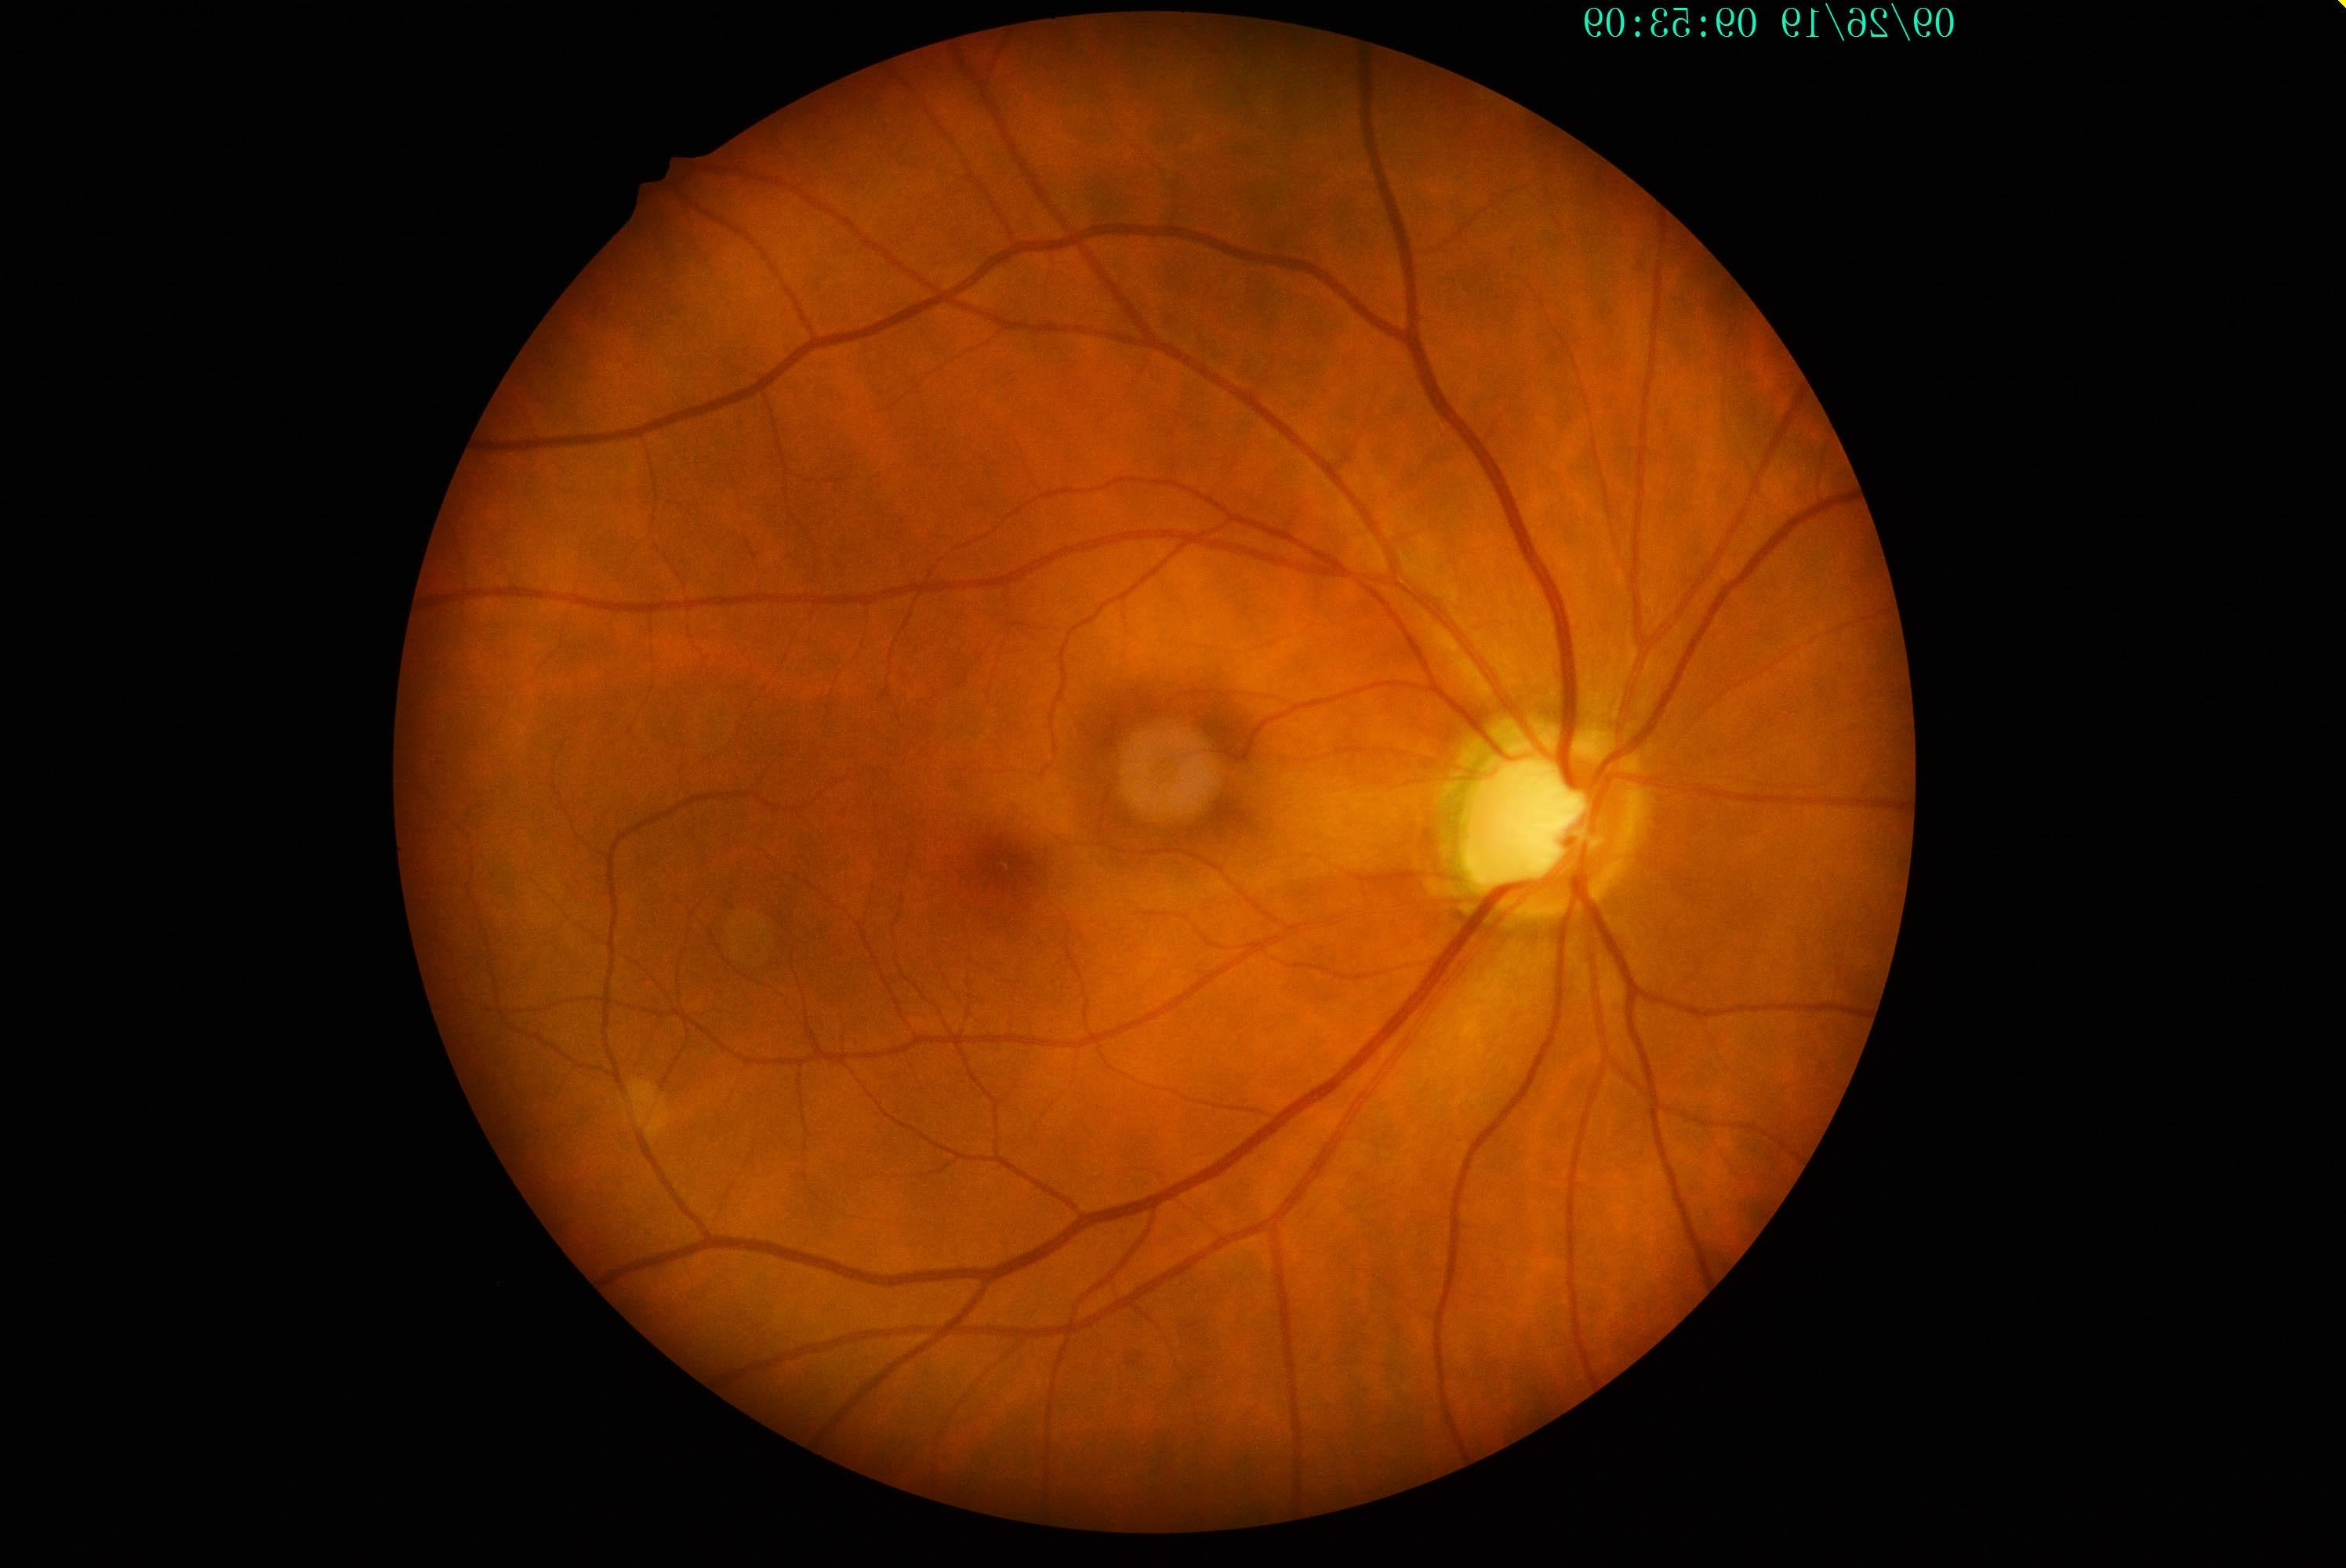Fovea: (920, 784, 1086, 954)
